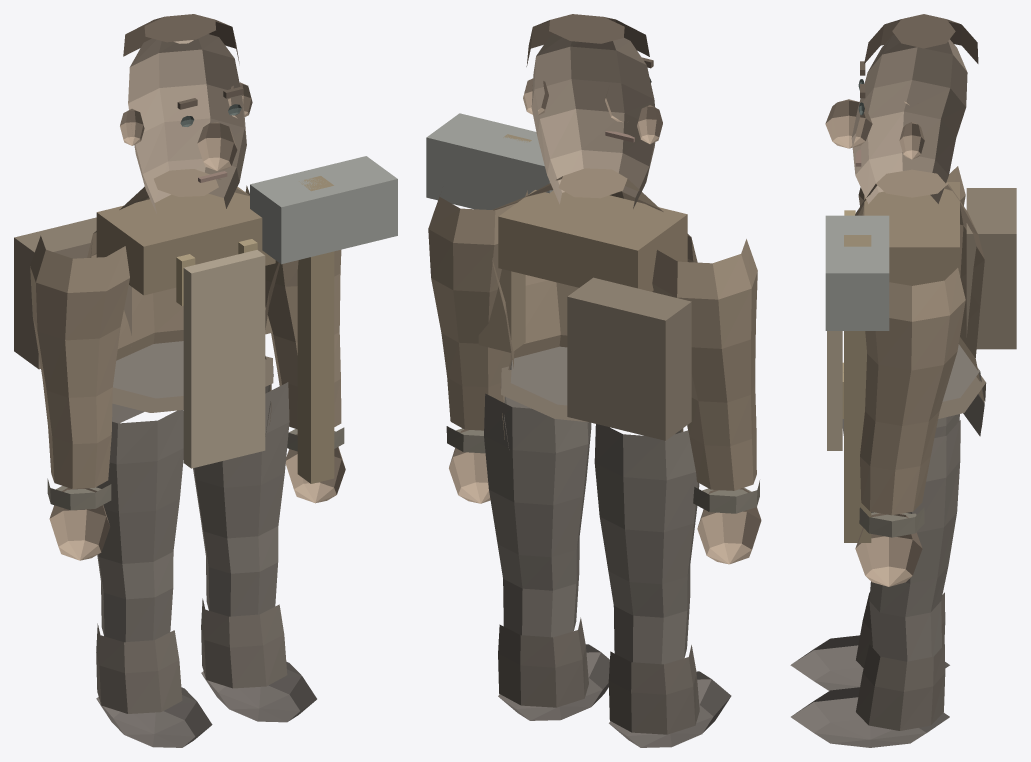
Rendered from stone_builder_1000_2.glb.
3 views of the same model, side by side, from view 1: azimuth 30°, elevation 25°; view 2: azimuth 150°, elevation 25°; view 3: azimuth 270°, elevation 25° (orthographic). The views are drawn at different scales.
Parts seen in each view (by area): view 1: leftArm_0, body_7, leftLeg_0, rightLeg_0, head_0, rightArm_4, body_10, rightArm_3, leftLeg_1, rightLeg_1, body_0, rightArm_0 (+11 smaller); view 2: leftLeg_0, rightLeg_0, body_8, leftArm_0, head_0, body_10, rightArm_0, rightArm_4, leftLeg_1, rightLeg_1, body_0, leftArm_2 (+10 smaller); view 3: rightArm_0, head_0, rightLeg_0, rightArm_4, body_8, body_10, rightLeg_1, rightArm_3, rightLeg_2, body_0, rightArm_2, head_9 (+8 smaller).
Boxes of the visible parts, left/top/right/bottom form: leftArm_0: left=30, top=235, right=129, bottom=488; body_7: left=183, top=250, right=265, bottom=468; leftLeg_0: left=96, top=410, right=183, bottom=642; rightLeg_0: left=193, top=382, right=289, bottom=616; head_0: left=128, top=34, right=246, bottom=213; rightArm_4: left=250, top=156, right=397, bottom=264; body_10: left=96, top=186, right=275, bottom=295; rightArm_3: left=297, top=176, right=334, bottom=483; leftLeg_1: left=96, top=623, right=182, bottom=713; rightLeg_1: left=201, top=598, right=287, bottom=688; body_0: left=87, top=169, right=279, bottom=424; rightArm_0: left=245, top=185, right=341, bottom=429; leftLeg_0: left=594, top=424, right=699, bottom=664; rightLeg_0: left=484, top=393, right=591, bottom=637; body_8: left=567, top=277, right=691, bottom=440; leftArm_0: left=652, top=239, right=757, bottom=490; head_0: left=531, top=34, right=655, bottom=208; body_10: left=498, top=190, right=687, bottom=291; rightArm_0: left=428, top=190, right=527, bottom=430; rightArm_4: left=426, top=113, right=553, bottom=209; leftLeg_1: left=608, top=645, right=699, bottom=734; rightLeg_1: left=498, top=617, right=588, bottom=707; body_0: left=492, top=168, right=697, bottom=439; leftArm_2: left=697, top=488, right=761, bottom=564; rightArm_0: left=860, top=268, right=965, bottom=515; head_0: left=851, top=34, right=967, bottom=203; rightLeg_0: left=869, top=420, right=960, bottom=661; rightArm_4: left=825, top=215, right=889, bottom=330; body_8: left=966, top=188, right=1016, bottom=349; body_10: left=864, top=182, right=959, bottom=285; rightLeg_1: left=856, top=644, right=945, bottom=730; rightArm_3: left=844, top=235, right=871, bottom=542; rightLeg_2: left=791, top=687, right=949, bottom=747; body_0: left=855, top=169, right=984, bottom=426; rightArm_2: left=855, top=513, right=922, bottom=586; head_9: left=864, top=14, right=978, bottom=63.
Size of the model in its own units: 0.822 by 1.66 by 0.498.
